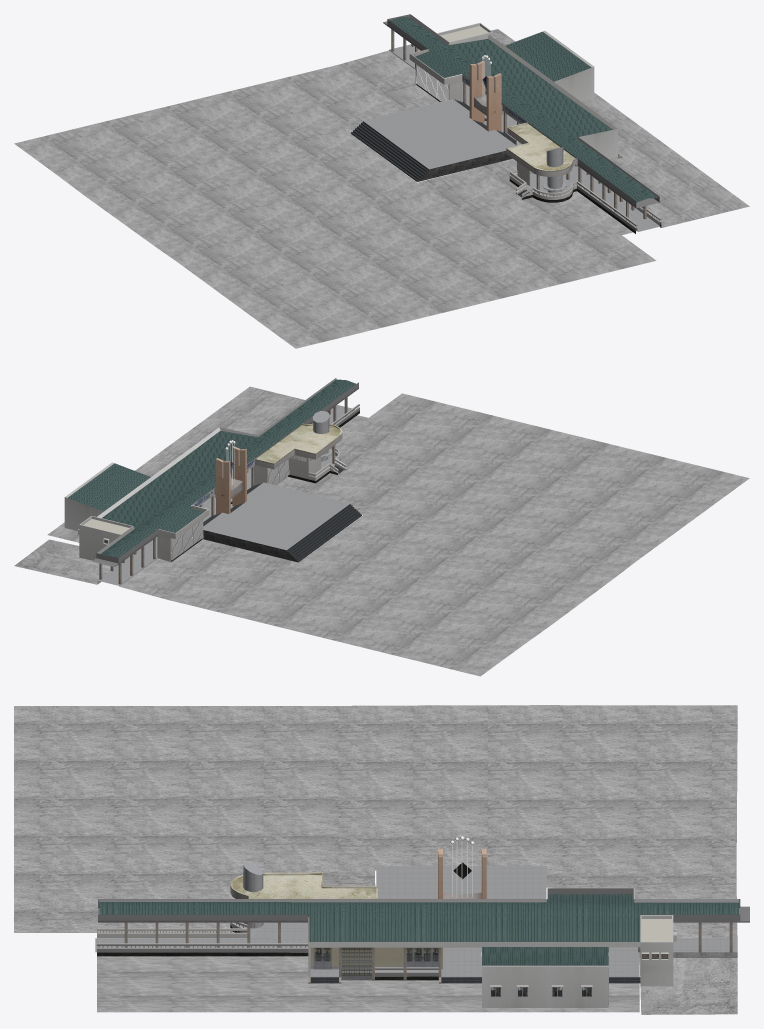
Rendered from 1782871377256-study_house.glb.
The picture shows the model from 3 angles, top to bottom: view 1: azimuth 30°, elevation 25°; view 2: azimuth 150°, elevation 25°; view 3: azimuth 270°, elevation 25°; orthographic projection. The views are drawn at different scales.
Parts seen in each view (by area): view 1: polySurface455; view 2: polySurface455; view 3: polySurface455.
Part boxes in pixels (box(x1,y1,x2,y2)): polySurface455: box(14, 14, 749, 348); polySurface455: box(14, 378, 749, 676); polySurface455: box(14, 705, 749, 1014).
Bounding box in the file's own units: 244 × 38.6 × 247.
7 materials, 6 textured.
